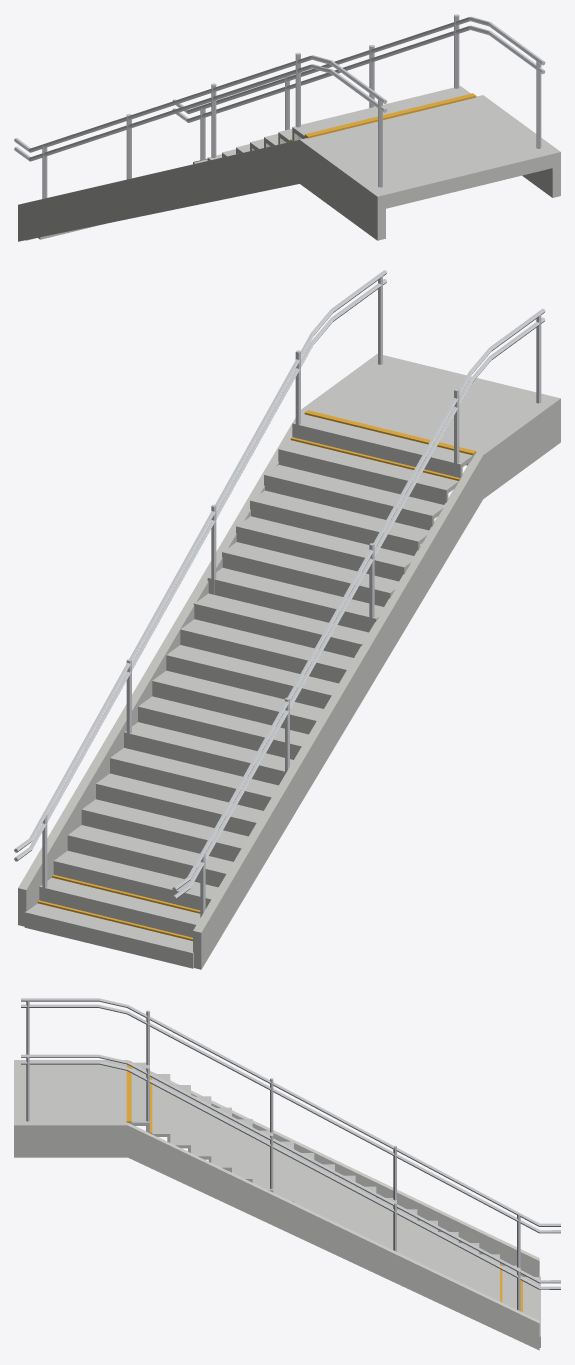
Rendered from modern-rail-and-metro-network-stair-flight-f091254d__13706.glb.
3 views of the same model, one above another, from view 1: azimuth 30°, elevation 25°; view 2: azimuth 150°, elevation 25°; view 3: azimuth 270°, elevation 25° (orthographic). The views are drawn at different scales.
Parts seen in each view (by area): view 1: stair-flight; view 2: stair-flight; view 3: stair-flight.
Boxes of the visible parts, x1,y1,x2,y2 form: stair-flight: (14, 14, 560, 241); stair-flight: (14, 270, 560, 969); stair-flight: (14, 998, 560, 1350).
Bounding box in the file's own units: 2.18 × 4.52 × 7.7.
